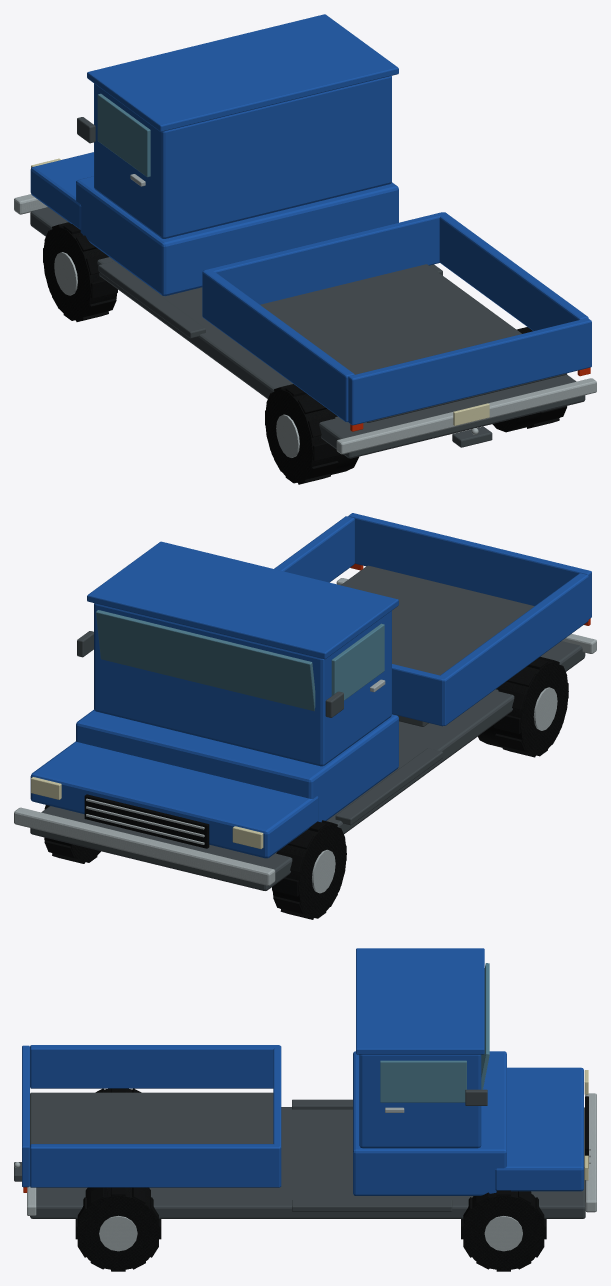
Rendered from HeavyDutyPickup.gltf.
3 renders of one model, top to bottom at view 1: azimuth 30°, elevation 25°; view 2: azimuth 150°, elevation 25°; view 3: azimuth 270°, elevation 25°, orthographic. The views are drawn at different scales.
Visible parts, largest first — view 1: HeavyDutyPickup__Body, HeavyDutyPickup__Wheel_RL, HeavyDutyPickup__Wheel_FL; view 2: HeavyDutyPickup__Body, HeavyDutyPickup__Wheel_RL, HeavyDutyPickup__Wheel_FL, HeavyDutyPickup__Wheel_FR; view 3: HeavyDutyPickup__Body, HeavyDutyPickup__Wheel_RR, HeavyDutyPickup__Wheel_FR.
Boxes of the visible parts, x1=… form: HeavyDutyPickup__Body: x1=14, y1=14, x2=596, y2=474; HeavyDutyPickup__Wheel_RL: x1=265, y1=384, x2=339, y2=484; HeavyDutyPickup__Wheel_FL: x1=43, y1=222, x2=117, y2=321; HeavyDutyPickup__Body: x1=14, y1=513, x2=596, y2=893; HeavyDutyPickup__Wheel_RL: x1=493, y1=656, x2=568, y2=757; HeavyDutyPickup__Wheel_FL: x1=272, y1=820, x2=346, y2=919; HeavyDutyPickup__Wheel_FR: x1=44, y1=805, x2=100, y2=863; HeavyDutyPickup__Body: x1=14, y1=948, x2=596, y2=1251; HeavyDutyPickup__Wheel_RR: x1=75, y1=1187, x2=161, y2=1271; HeavyDutyPickup__Wheel_FR: x1=461, y1=1190, x2=546, y2=1271.
Size of the model in its own units: 2.27 by 2.11 by 5.08.
Materials: 4 (1 with a texture image).
